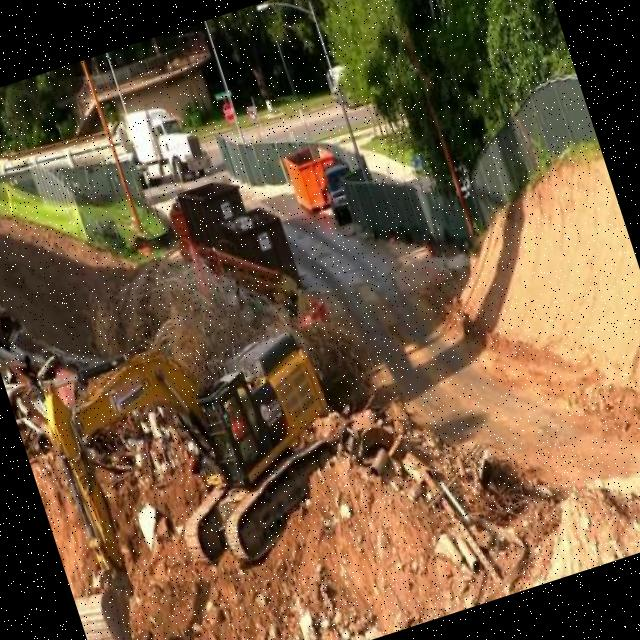Dump Truck: (0, 86, 215, 236)
Excavator: (8, 300, 397, 640)
